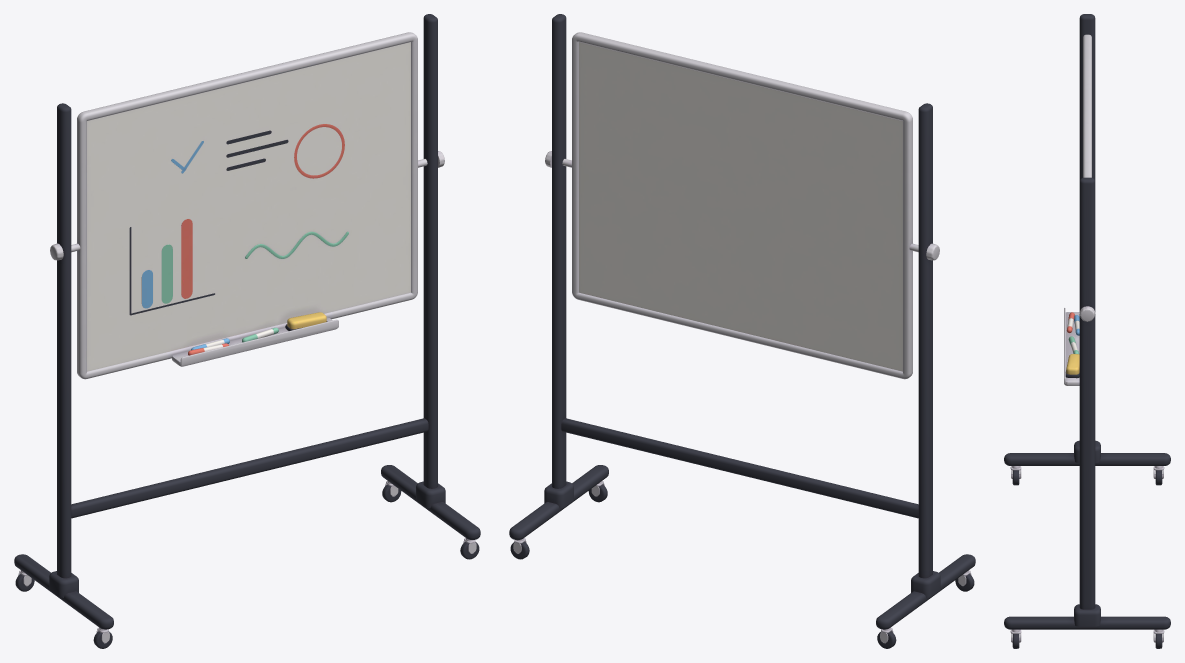
Rendered from vintage-office-whiteboard.glb.
3 renders of one model, left to right at view 1: azimuth 30°, elevation 25°; view 2: azimuth 150°, elevation 25°; view 3: azimuth 270°, elevation 25°, orthographic. The views are drawn at different scales.
Parts seen in each view (by area): view 1: whiteboard_panel, whiteboard_body; view 2: whiteboard_panel, whiteboard_body; view 3: whiteboard_body, whiteboard_panel.
Part boxes in pixels (<box>): whiteboard_panel: <box>71,32,427,379</box>; whiteboard_body: <box>14,14,480,648</box>; whiteboard_panel: <box>562,32,918,379</box>; whiteboard_body: <box>509,14,975,648</box>; whiteboard_body: <box>1004,14,1170,648</box>; whiteboard_panel: <box>1064,34,1091,385</box>.
Size of the model in its own units: 1.38 by 1.74 by 0.56.
Materials: 2 (2 with a texture image).
